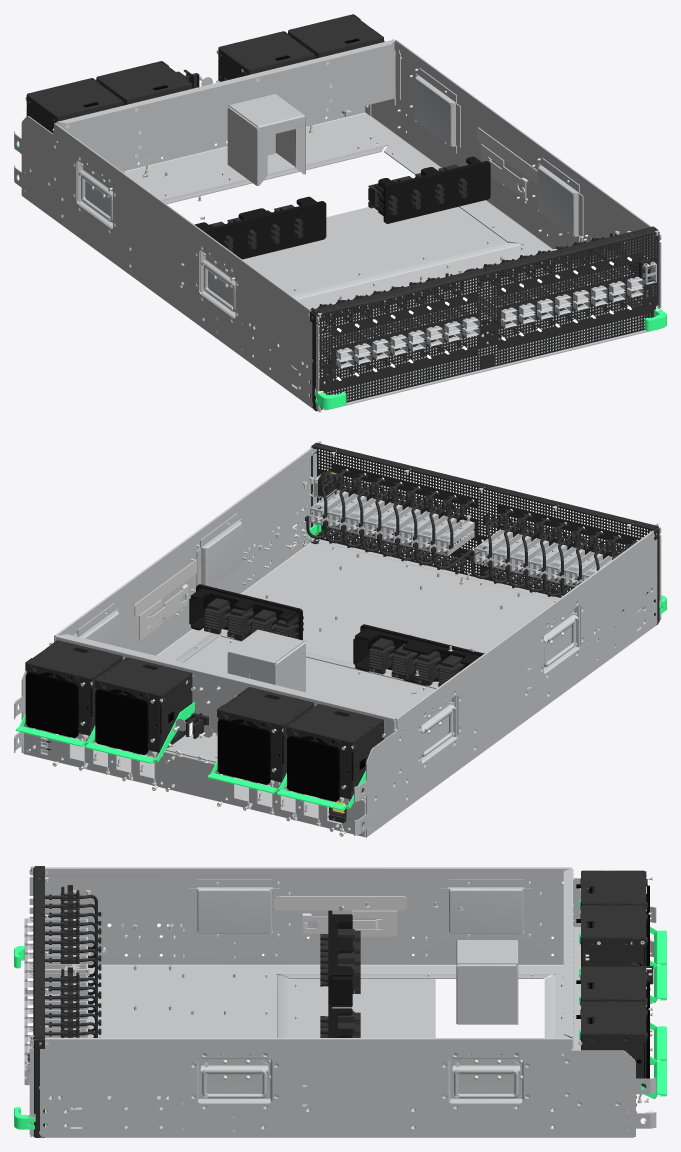
The model's file is sidecar-ext-0.glb.
3 renders of one model, top to bottom at view 1: azimuth 30°, elevation 25°; view 2: azimuth 150°, elevation 25°; view 3: azimuth 270°, elevation 25°, orthographic. The views are drawn at different scales.
Visible parts, largest first — view 1: Handles_Socket_2.004_block.001, Fan_Screw_4.024_block.001, Plane.020, Cube.009, Cube.047_block.001, Samtec EBCF-X-4-12-RA-L_True Model Split.001, Plane.023, Fan_Frame_Side_block.001_block.001, DBR FHSM3X5-TX-STL-ZI-NYPA FHMS M3X5 TORX OXC_Simplified.204; view 2: Handles_Socket_2.004_block.001, Fan_Screw_4.024_block.001, Fan_Frame_Side_block.001_block.001, Cube.047_block.001, Plane.020, Samtec EBCF-X-4-12-RA-L_True Model Split.001, Cube.009, DBR FHSM3X5-TX-STL-ZI-NYPA FHMS M3X5 TORX OXC_Simplified.204, Plane.023; view 3: Handles_Socket_2.004_block.001, Fan_Screw_4.024_block.001, Plane.020, Cube.047_block.001, Fan_Frame_Side_block.001_block.001, Plane.023, Cube.009, Samtec EBCF-X-4-12-RA-L_True Model Split.001, DBR FHSM3X5-TX-STL-ZI-NYPA FHMS M3X5 TORX OXC_Simplified.204.
Boxes of the visible parts, x1,y1,x2,y2 form: Handles_Socket_2.004_block.001: (14, 39, 661, 412); Fan_Screw_4.024_block.001: (26, 14, 659, 411); Plane.020: (227, 94, 529, 294); Cube.009: (194, 156, 490, 259); Cube.047_block.001: (176, 69, 650, 380); Samtec EBCF-X-4-12-RA-L_True Model Split.001: (209, 164, 467, 252); Plane.023: (181, 127, 537, 284); Fan_Frame_Side_block.001_block.001: (18, 39, 666, 409); DBR FHSM3X5-TX-STL-ZI-NYPA FHMS M3X5 TORX OXC_Simplified.204: (25, 39, 662, 394); Handles_Socket_2.004_block.001: (14, 441, 661, 837); Fan_Screw_4.024_block.001: (25, 442, 659, 799); Fan_Frame_Side_block.001_block.001: (15, 521, 666, 810); Cube.047_block.001: (46, 467, 641, 823); Plane.020: (184, 629, 435, 729); Samtec EBCF-X-4-12-RA-L_True Model Split.001: (204, 598, 464, 686); Cube.009: (189, 584, 484, 685); DBR FHSM3X5-TX-STL-ZI-NYPA FHMS M3X5 TORX OXC_Simplified.204: (26, 451, 662, 836); Plane.023: (134, 559, 531, 689); Handles_Socket_2.004_block.001: (24, 866, 656, 1137); Fan_Screw_4.024_block.001: (33, 866, 647, 1137); Plane.020: (252, 940, 518, 1110); Cube.047_block.001: (27, 885, 653, 1112); Fan_Frame_Side_block.001_block.001: (14, 884, 666, 1129); Plane.023: (274, 896, 406, 1106); Cube.009: (328, 910, 352, 1037); Samtec EBCF-X-4-12-RA-L_True Model Split.001: (320, 929, 360, 1037); DBR FHSM3X5-TX-STL-ZI-NYPA FHMS M3X5 TORX OXC_Simplified.204: (28, 871, 652, 1122).
Size of the model in its own units: 17792 by 4780 by 28114.
